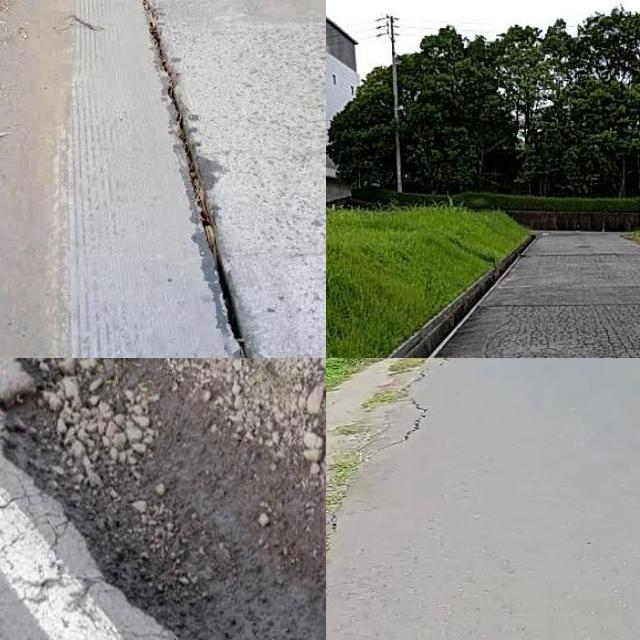Memanjang: (134, 0, 301, 358)
Pinggir: (0, 358, 326, 640), (326, 370, 456, 571)
